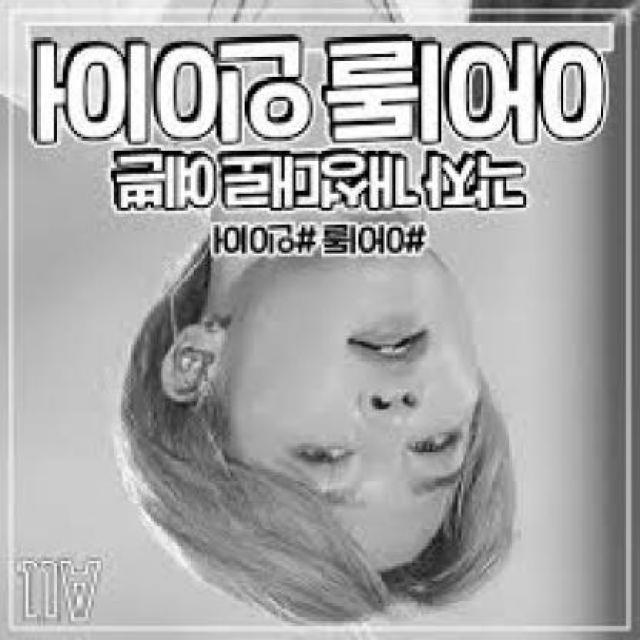earphone: (173, 329, 222, 408)
